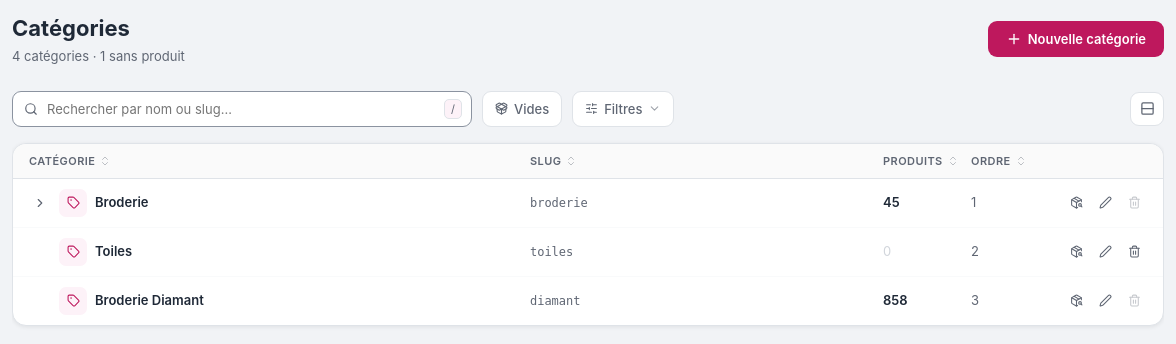
Test: Categories — filtres › affiche une puce retirable pour chaque filtre actif
Expected: the text "Broderie" is shown, 95,193 -> 148,212
Click the button "Vides". click: (522, 108)
box: 482,90 -> 562,126
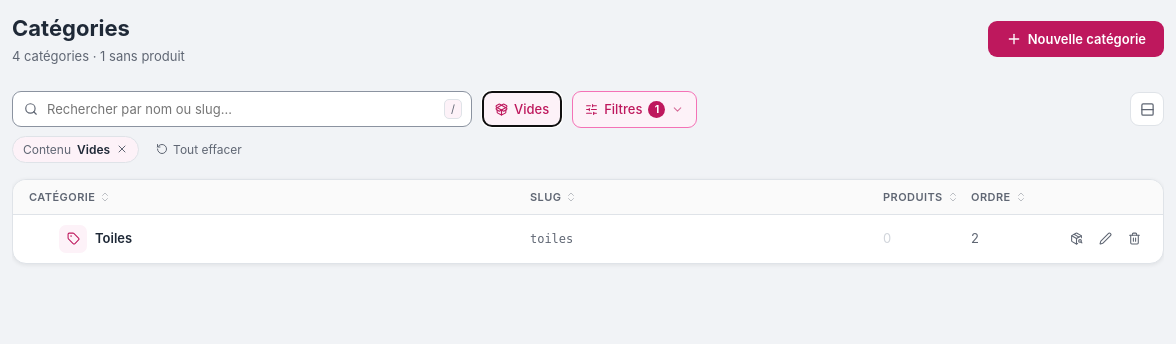
// Le clic sur la puce retire le filtre
Click the button "Contenu Vides". click: (76, 149)
box: 12,136 -> 139,162
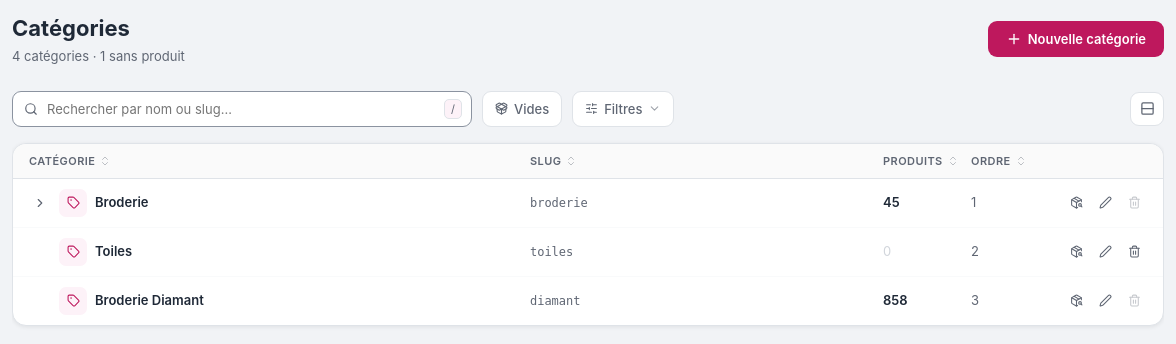
Expected: the text "Broderie Diamant" is shown, 95,291 -> 204,310
